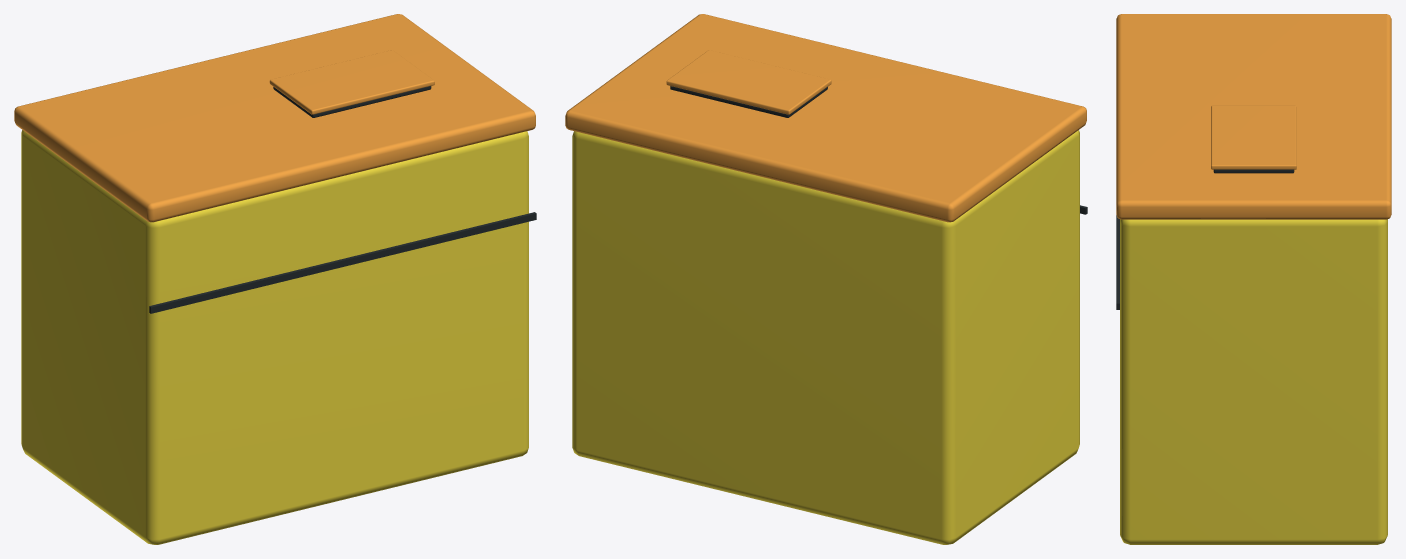
The model's file is sharps_bin.fbx.
The picture shows the model from 3 angles, left to right: view 1: azimuth 30°, elevation 25°; view 2: azimuth 150°, elevation 25°; view 3: azimuth 270°, elevation 25°; orthographic projection.
Visible parts, largest first — view 1: EQ_sharps_bin_Body, EQ_sharps_bin_Lid, EQ_sharps_bin_Flap, EQ_sharps_bin_FillLine, EQ_sharps_bin_Aperture; view 2: EQ_sharps_bin_Body, EQ_sharps_bin_Lid, EQ_sharps_bin_Flap, EQ_sharps_bin_Aperture; view 3: EQ_sharps_bin_Body, EQ_sharps_bin_Lid, EQ_sharps_bin_Flap, EQ_sharps_bin_Aperture, EQ_sharps_bin_FillLine.
Boxes of the visible parts, x1=… form: EQ_sharps_bin_Body: x1=21, y1=130, x2=528, y2=544; EQ_sharps_bin_Lid: x1=14, y1=14, x2=535, y2=222; EQ_sharps_bin_Flap: x1=269, y1=50, x2=434, y2=114; EQ_sharps_bin_FillLine: x1=149, y1=212, x2=536, y2=313; EQ_sharps_bin_Aperture: x1=273, y1=86, x2=431, y2=117; EQ_sharps_bin_Body: x1=572, y1=130, x2=1079, y2=544; EQ_sharps_bin_Lid: x1=565, y1=14, x2=1086, y2=222; EQ_sharps_bin_Flap: x1=666, y1=50, x2=831, y2=114; EQ_sharps_bin_Aperture: x1=670, y1=86, x2=827, y2=117; EQ_sharps_bin_Body: x1=1120, y1=219, x2=1387, y2=544; EQ_sharps_bin_Lid: x1=1116, y1=14, x2=1391, y2=219; EQ_sharps_bin_Flap: x1=1211, y1=105, x2=1296, y2=169; EQ_sharps_bin_Aperture: x1=1213, y1=169, x2=1294, y2=173; EQ_sharps_bin_FillLine: x1=1116, y1=215, x2=1119, y2=309.
Size of the model in its own units: 0.252 by 0.221 by 0.154.
